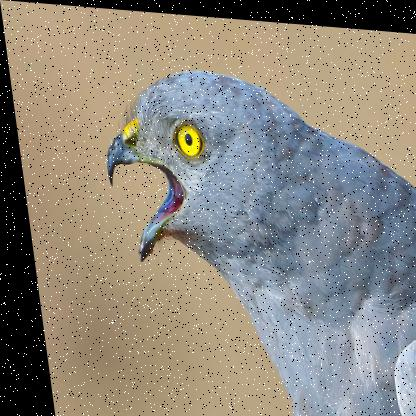Burung: (90, 64, 415, 415)
